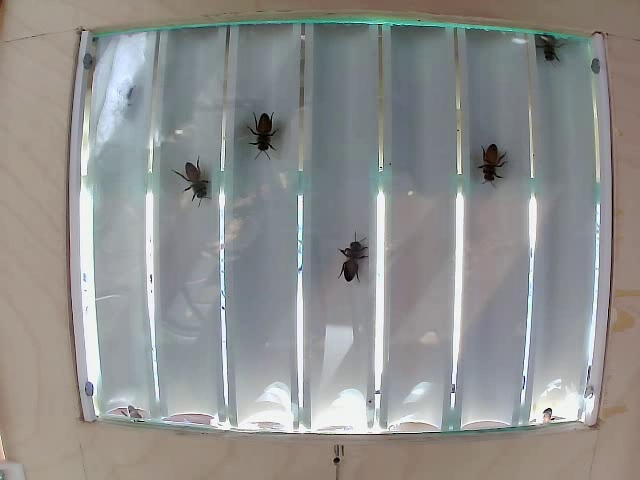bee: (332, 234, 375, 286), (246, 109, 283, 163), (178, 156, 210, 200), (473, 140, 504, 182)
